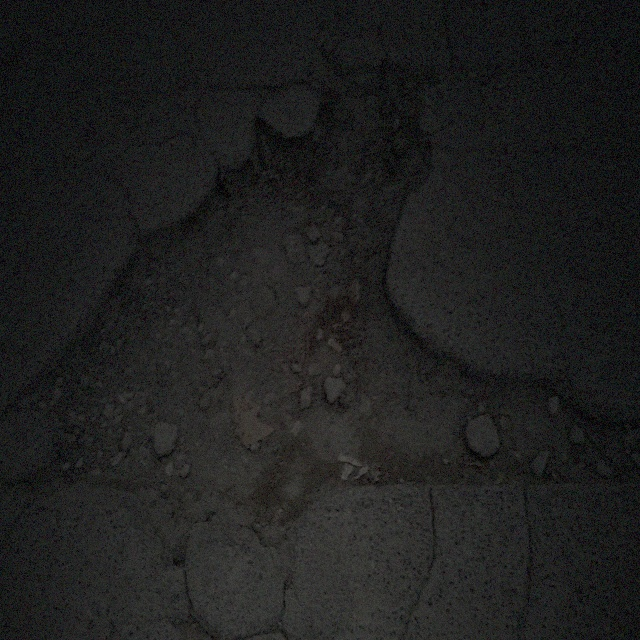pothole: (37, 47, 587, 510)
